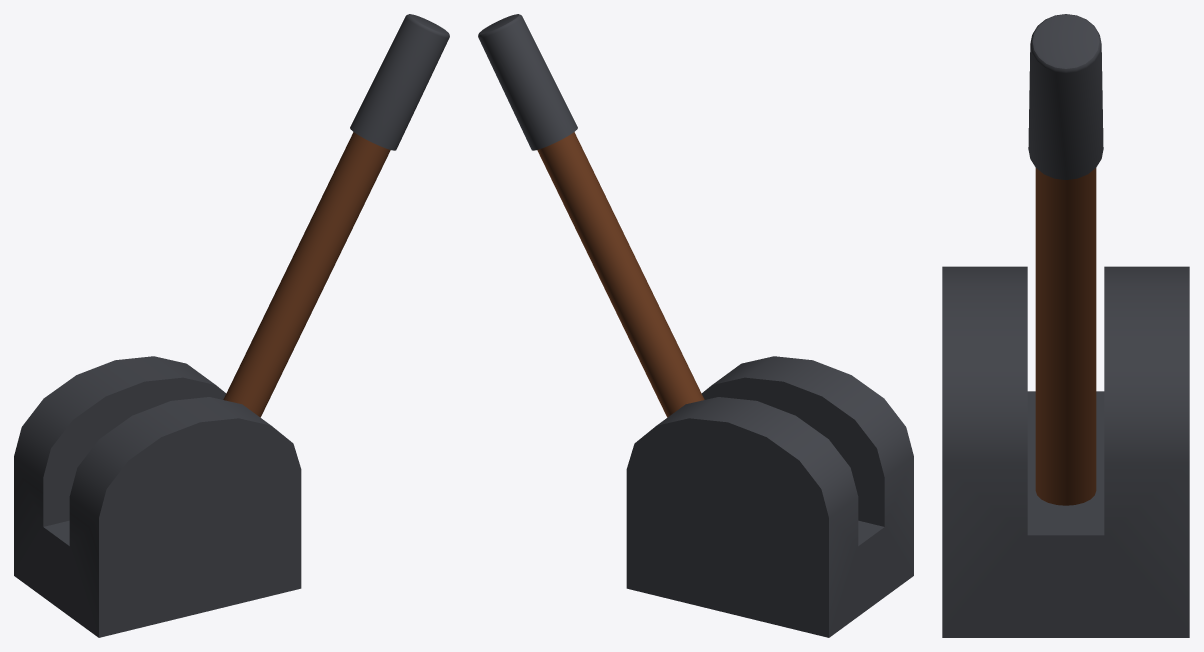
Rendered from Weiche_Einzelobjekt.fbx.
The picture shows the model from 3 angles, left to right: view 1: azimuth 30°, elevation 25°; view 2: azimuth 150°, elevation 25°; view 3: azimuth 270°, elevation 25°; orthographic projection. The views are drawn at different scales.
Parts seen in each view (by area): view 1: Cube.031; view 2: Cube.031; view 3: Cube.031.
Part boxes in pixels (left/top/right/bottom): Cube.031: left=14, top=14, right=449, bottom=637; Cube.031: left=478, top=14, right=913, bottom=637; Cube.031: left=942, top=14, right=1189, bottom=637.
Size of the model in its own units: 58.37 by 73.16 by 22.
